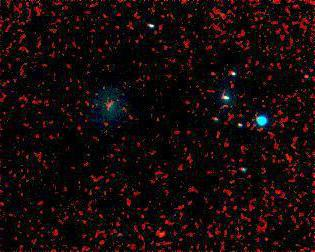star: (149, 221, 179, 251)
